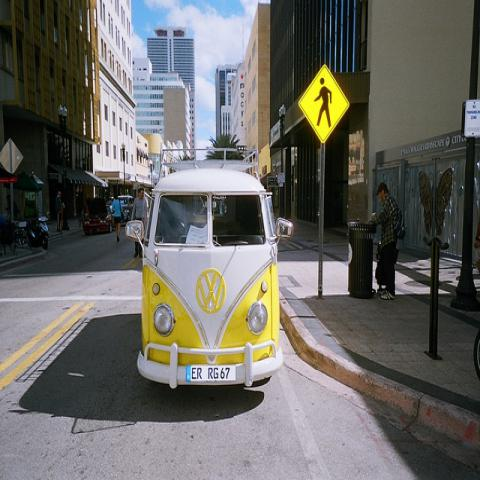car: (82, 198, 115, 237), (118, 196, 134, 222)
motorcycle: (26, 214, 50, 248)
truck: (120, 169, 294, 391)
